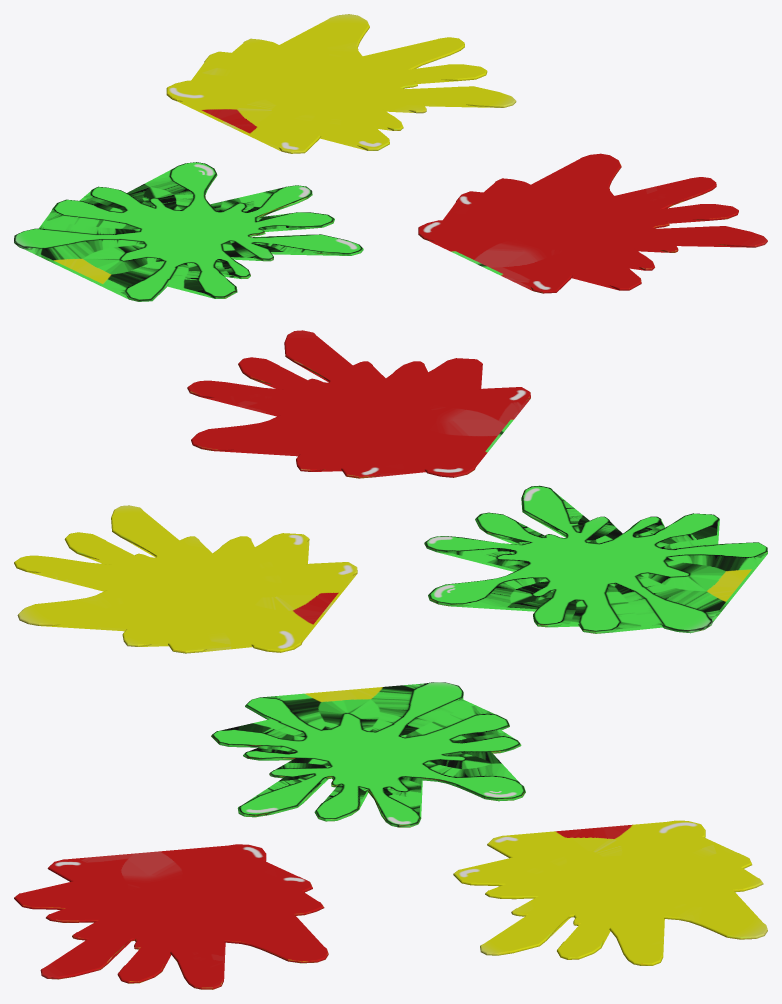
The model's file is SlipperyJadir.fbx.
3 renders of one model, top to bottom at view 1: azimuth 30°, elevation 25°; view 2: azimuth 150°, elevation 25°; view 3: azimuth 270°, elevation 25°, orthographic. The views are drawn at different scales.
Parts seen in each view (by area): view 1: Circle.002, Circle, Circle.001; view 2: Circle.001, Circle, Circle.002; view 3: Circle.002, Circle, Circle.001.
Part boxes in pixels (left/top/right/bottom): Circle.002: left=418, top=153, right=767, bottom=293; Circle: left=14, top=162, right=363, bottom=301; Circle.001: left=166, top=14, right=516, bottom=153; Circle.001: left=14, top=505, right=357, bottom=653; Circle: left=424, top=485, right=767, bottom=633; Circle.002: left=187, top=330, right=530, bottom=478; Circle.002: left=14, top=844, right=328, bottom=989; Circle: left=211, top=682, right=525, bottom=827; Circle.001: left=453, top=820, right=767, bottom=965.
Bounding box in the file's own units: 816 × 2.53 × 850.
